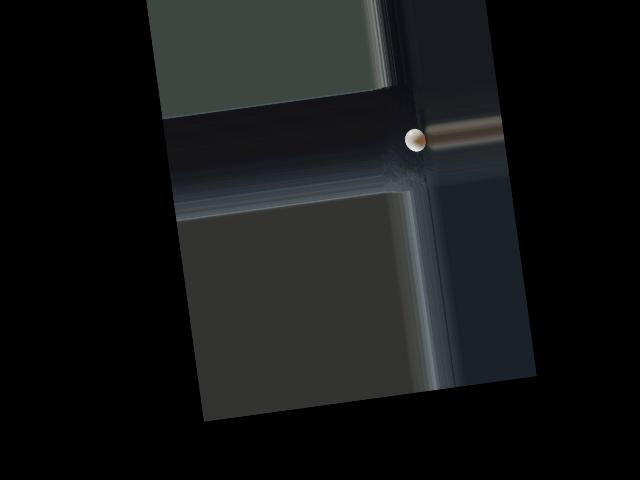egg: (403, 127, 427, 153)
